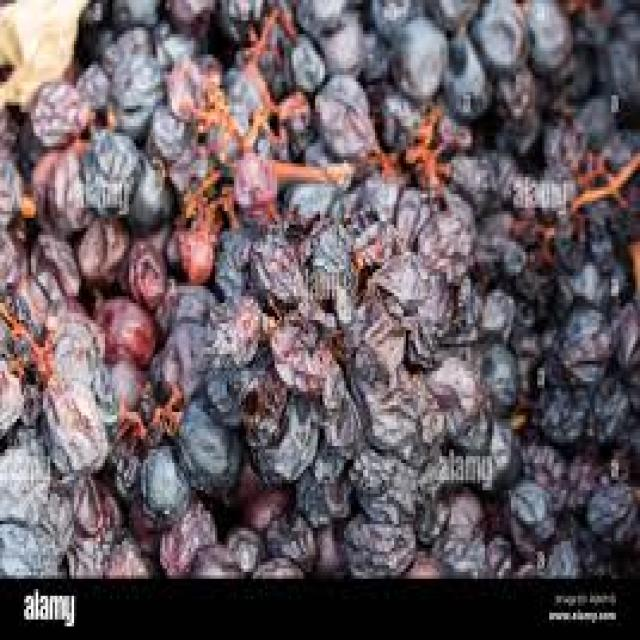Grapes: (38, 369, 113, 481), (378, 199, 485, 275), (369, 279, 466, 359), (352, 451, 434, 541), (393, 21, 455, 107), (149, 322, 224, 393), (459, 419, 532, 489), (246, 230, 307, 312), (311, 228, 361, 321), (226, 375, 288, 449), (558, 317, 621, 389), (122, 241, 174, 325), (89, 150, 149, 221), (271, 337, 339, 398), (110, 65, 168, 133), (134, 458, 194, 522), (473, 12, 535, 72), (316, 89, 366, 163)
